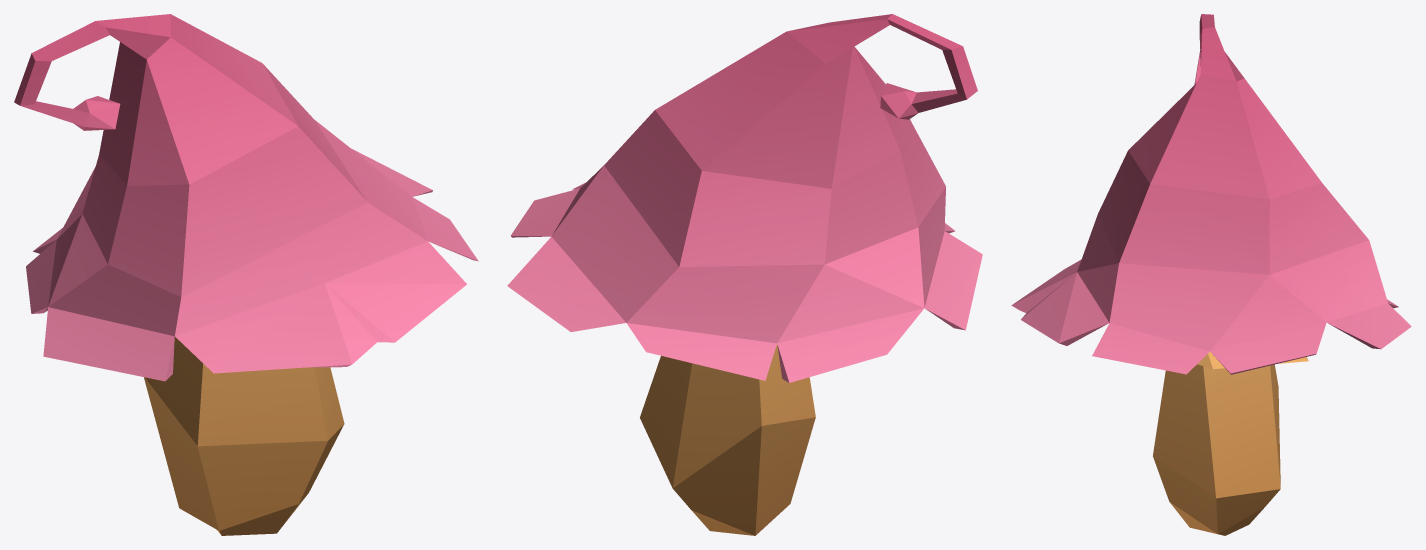
File: Mushroom_Pink_Small_01.fbx
3 views of the same model, side by side, from view 1: azimuth 30°, elevation 25°; view 2: azimuth 150°, elevation 25°; view 3: azimuth 270°, elevation 25° (orthographic). The views are drawn at different scales.
Visible parts, largest first — view 1: Mushroom_Pink_Small; view 2: Mushroom_Pink_Small; view 3: Mushroom_Pink_Small.
Part boxes in pixels (x1=…): Mushroom_Pink_Small: x1=14, y1=14, x2=478, y2=535; Mushroom_Pink_Small: x1=507, y1=14, x2=982, y2=535; Mushroom_Pink_Small: x1=1011, y1=14, x2=1411, y2=535.
Size of the model in its own units: 0.5 by 0.6 by 0.5.
